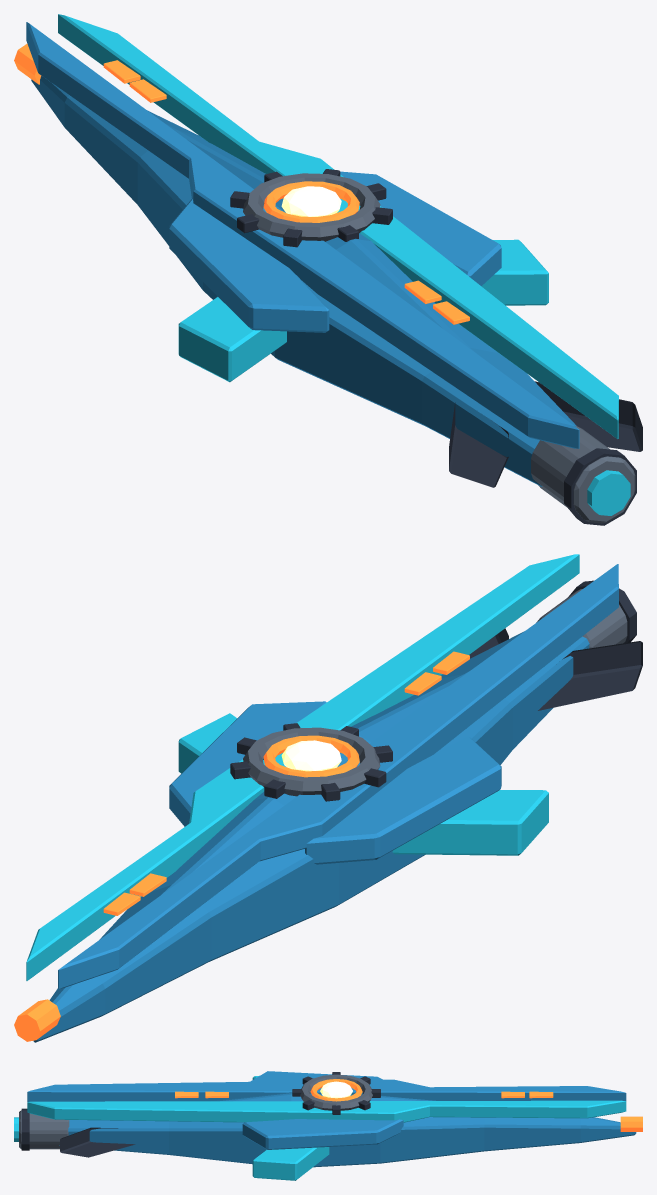
Rendered from sniper_enemy.glb.
3 renders of one model, top to bottom at view 1: azimuth 30°, elevation 25°; view 2: azimuth 150°, elevation 25°; view 3: azimuth 270°, elevation 25°, orthographic. The views are drawn at different scales.
Parts seen in each view (by area): view 1: sniper_enemy__Lancer_Armor, sniper_enemy__Lancer_Accent, sniper_enemy__Lancer_Hull, sniper_enemy__Lancer_Gunmetal, sniper_enemy__Lancer_Void, sniper_enemy__Lancer_Energy, sniper_enemy__Lancer_HotCore; view 2: sniper_enemy__Lancer_Armor, sniper_enemy__Lancer_Hull, sniper_enemy__Lancer_Accent, sniper_enemy__Lancer_Void, sniper_enemy__Lancer_Gunmetal, sniper_enemy__Lancer_Energy, sniper_enemy__Lancer_HotCore; view 3: sniper_enemy__Lancer_Hull, sniper_enemy__Lancer_Accent, sniper_enemy__Lancer_Armor, sniper_enemy__Lancer_Gunmetal, sniper_enemy__Lancer_Void, sniper_enemy__Lancer_Energy, sniper_enemy__Lancer_HotCore.
Part boxes in pixels (x1,y1,x2,y2): sniper_enemy__Lancer_Armor: (26,22,579,448); sniper_enemy__Lancer_Accent: (58,14,630,515); sniper_enemy__Lancer_Hull: (31,76,576,486); sniper_enemy__Lancer_Gunmetal: (243,173,635,523); sniper_enemy__Lancer_Void: (230,169,642,525); sniper_enemy__Lancer_Energy: (14,43,469,324); sniper_enemy__Lancer_HotCore: (281,186,341,216); sniper_enemy__Lancer_Armor: (58,564,618,988); sniper_enemy__Lancer_Hull: (33,631,589,1042); sniper_enemy__Lancer_Accent: (26,554,579,980); sniper_enemy__Lancer_Void: (230,580,642,801); sniper_enemy__Lancer_Gunmetal: (243,589,627,796); sniper_enemy__Lancer_Energy: (14,651,469,1041); sniper_enemy__Lancer_HotCore: (281,740,341,771); sniper_enemy__Lancer_Hull: (59,1092,636,1167); sniper_enemy__Lancer_Accent: (14,1075,626,1180); sniper_enemy__Lancer_Armor: (27,1071,626,1149); sniper_enemy__Lancer_Gunmetal: (19,1074,372,1149); sniper_enemy__Lancer_Void: (21,1072,380,1157); sniper_enemy__Lancer_Energy: (175,1079,642,1131); sniper_enemy__Lancer_HotCore: (320,1081,352,1098).
Size of the model in its own units: 2.87 by 0.9671 by 8.48.
